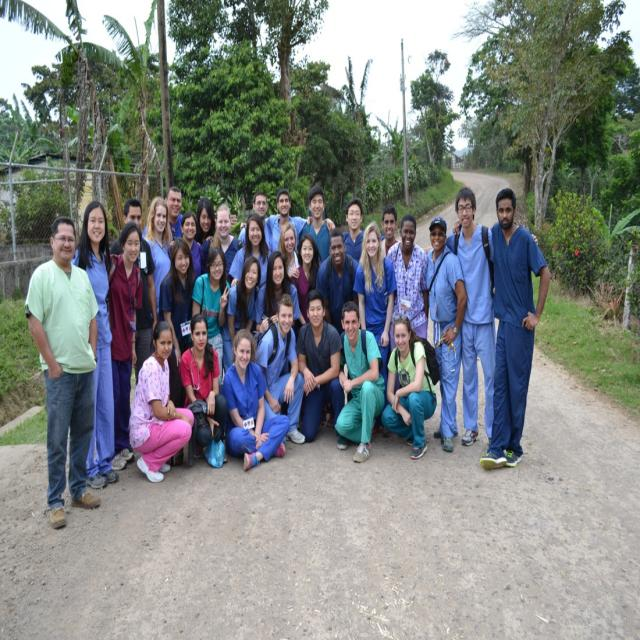body: (419, 185, 539, 446), (23, 212, 102, 531), (478, 186, 552, 471), (70, 200, 120, 490), (419, 216, 468, 454), (127, 318, 195, 484), (220, 327, 291, 473), (352, 220, 399, 439), (104, 220, 144, 472), (378, 312, 441, 462), (293, 288, 350, 452), (108, 198, 157, 388), (249, 291, 307, 445), (334, 299, 387, 463), (176, 311, 230, 469), (157, 236, 198, 412), (238, 188, 338, 256), (385, 214, 430, 354), (191, 245, 231, 396), (141, 185, 238, 241), (315, 226, 361, 335), (250, 249, 302, 334), (141, 195, 174, 325), (225, 255, 261, 367), (227, 212, 273, 289), (290, 232, 323, 338), (198, 202, 240, 278), (298, 184, 332, 265), (237, 191, 273, 249), (179, 211, 208, 281), (339, 198, 370, 262), (278, 222, 302, 288), (378, 204, 400, 261), (194, 196, 216, 246)
